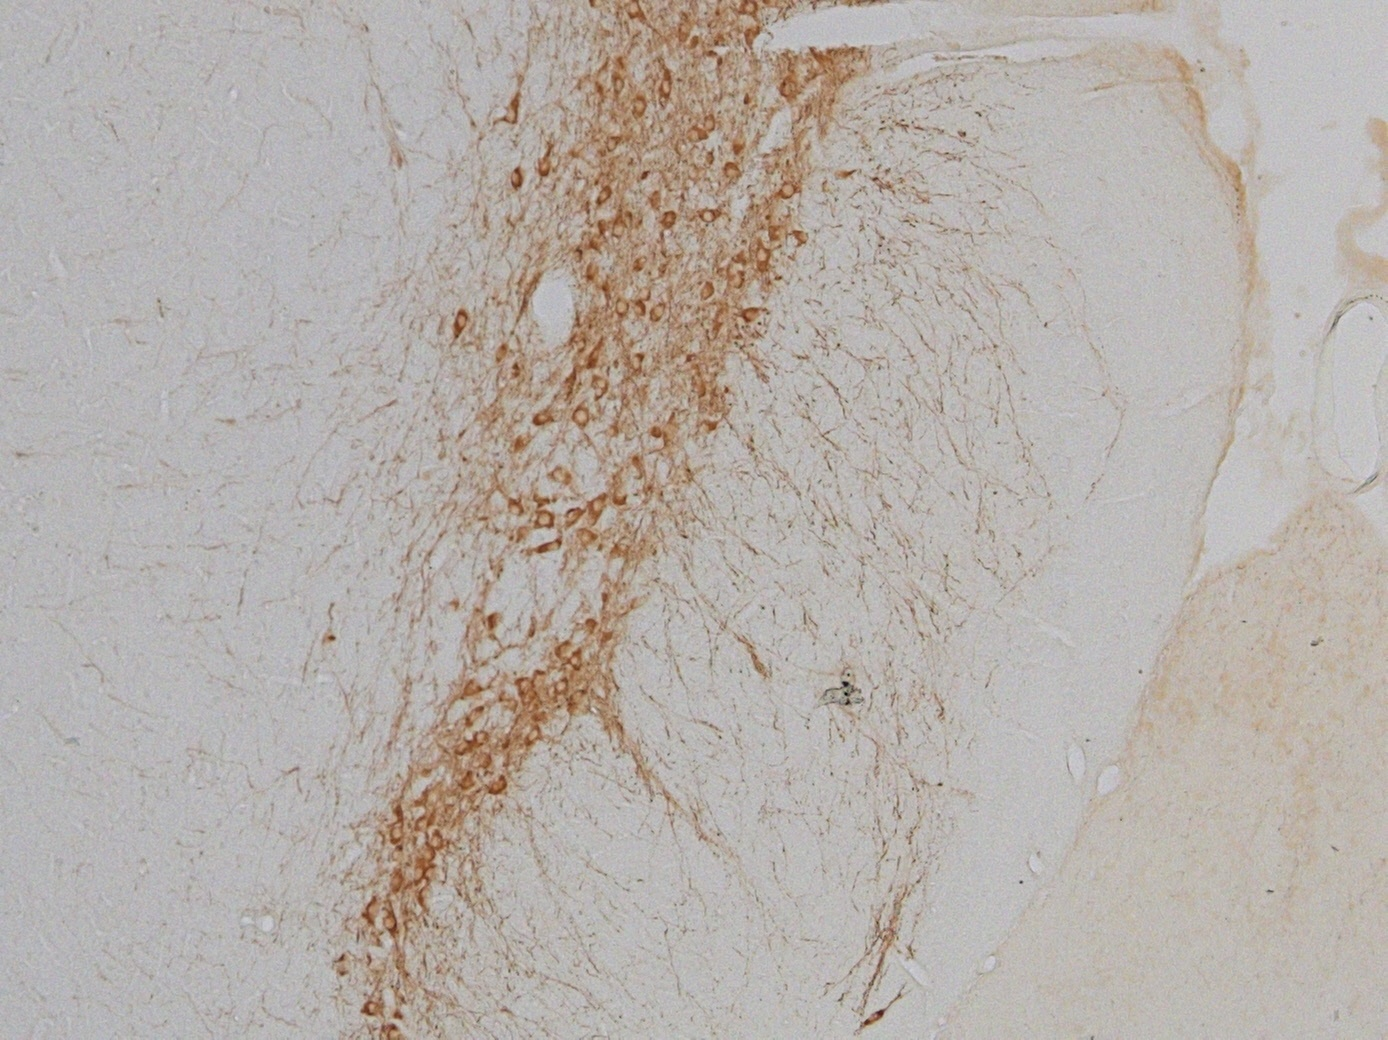neuron: (361, 996, 385, 1020), (379, 911, 403, 935), (384, 820, 408, 844), (384, 868, 408, 893), (412, 813, 436, 837), (424, 831, 448, 855), (450, 311, 474, 335), (451, 736, 475, 760), (471, 726, 495, 751), (500, 106, 524, 130), (501, 499, 525, 523), (512, 676, 536, 700), (523, 725, 547, 749), (531, 407, 555, 432), (534, 159, 558, 184), (534, 511, 558, 535), (548, 465, 572, 489), (553, 676, 577, 700), (554, 639, 578, 663), (561, 501, 585, 525), (568, 406, 592, 430), (568, 651, 592, 675), (588, 494, 612, 518), (591, 184, 615, 208), (592, 376, 616, 400), (600, 135, 624, 159), (607, 72, 631, 96), (609, 215, 633, 239), (610, 297, 634, 321), (622, 0, 646, 24), (627, 94, 651, 118), (628, 298, 652, 322), (628, 348, 652, 373), (634, 285, 659, 309), (650, 300, 674, 324), (654, 76, 678, 101), (659, 208, 683, 232), (696, 206, 720, 231), (697, 280, 721, 304), (700, 111, 724, 135), (717, 158, 742, 182), (725, 272, 749, 296), (742, 306, 766, 330), (752, 245, 776, 269), (792, 226, 816, 250), (505, 169, 527, 193), (778, 179, 800, 203), (683, 125, 705, 147)
